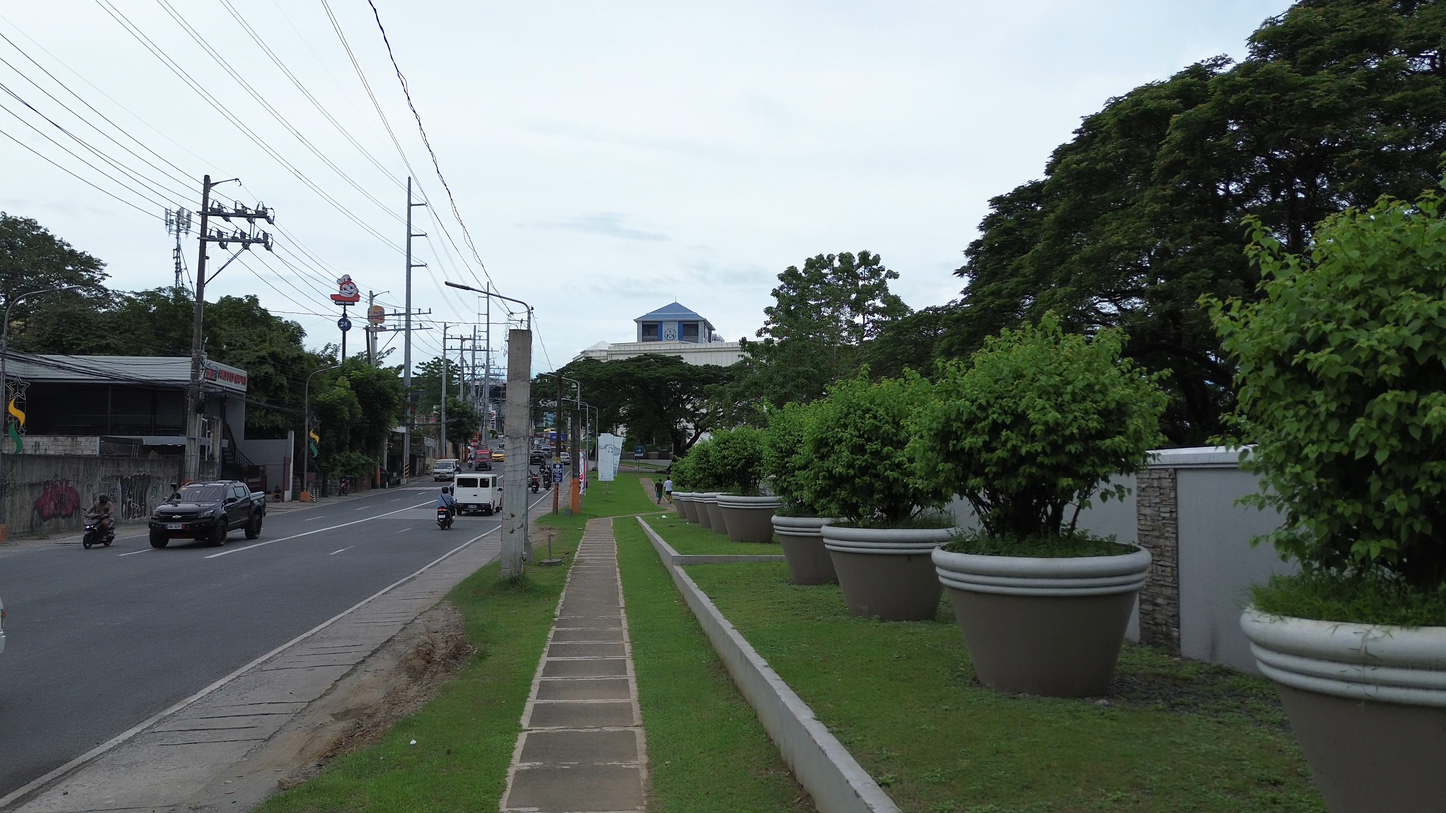motorcycle: (82, 516, 114, 549), (436, 507, 454, 529), (529, 475, 540, 493)
vehicle: (149, 481, 265, 547), (453, 473, 501, 515), (82, 515, 115, 549), (432, 459, 459, 481), (0, 602, 5, 653), (529, 450, 545, 465), (529, 473, 540, 493), (491, 448, 505, 462), (560, 451, 570, 464)
